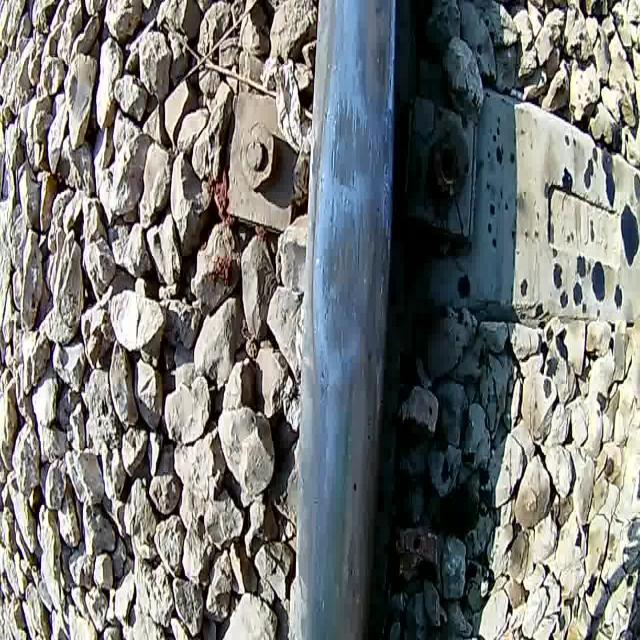Squats: (328, 346, 387, 640), (312, 201, 394, 363), (351, 0, 403, 150), (324, 89, 379, 205)
